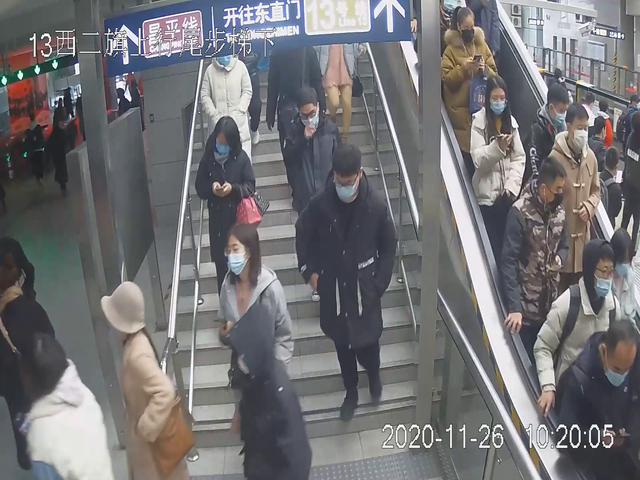person: (291, 137, 397, 427), (94, 277, 196, 480), (190, 107, 260, 307), (500, 154, 565, 361), (467, 70, 526, 272), (440, 4, 503, 190), (282, 84, 344, 267), (548, 100, 603, 298)
